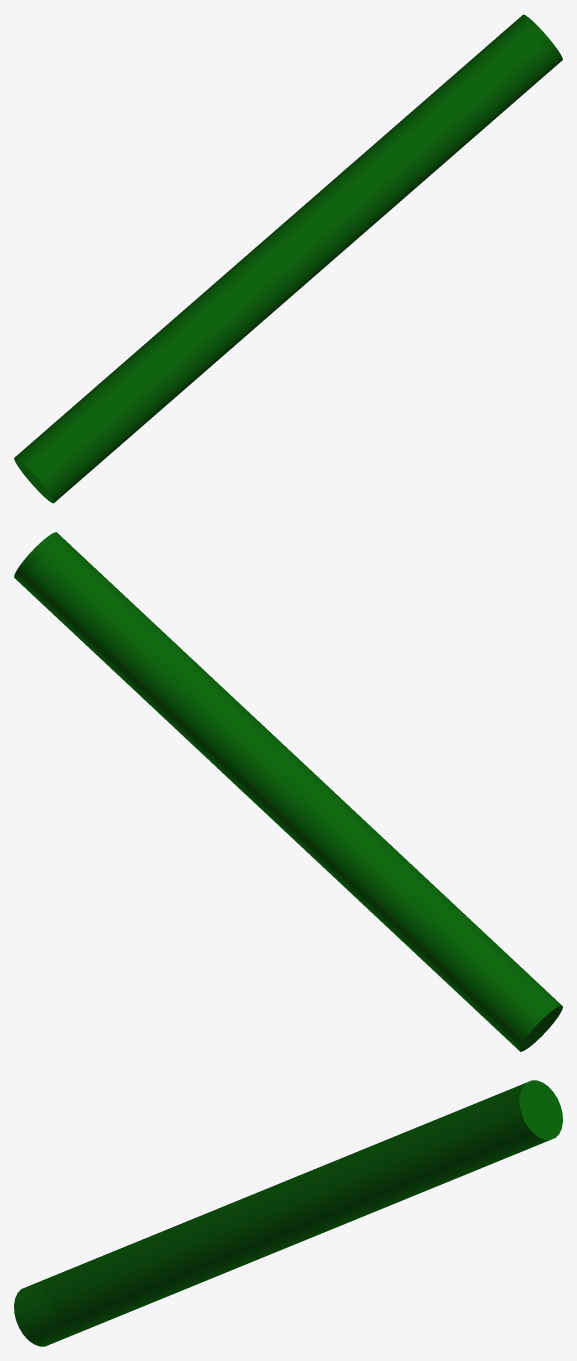
File: Event_421364160_jet_1.fbx
3 views of the same model, one above another, from view 1: azimuth 30°, elevation 25°; view 2: azimuth 150°, elevation 25°; view 3: azimuth 330°, elevation 25° (orthographic). The views are drawn at different scales.
Visible parts, largest first — view 1: Model; view 2: Model; view 3: Model.
Boxes of the visible parts, bbox=[...] form: Model: bbox=[14, 14, 562, 503]; Model: bbox=[14, 532, 562, 1051]; Model: bbox=[14, 1080, 562, 1346].
Bounding box in the file's own units: 0.4008 × 0.2729 × 0.0532.
